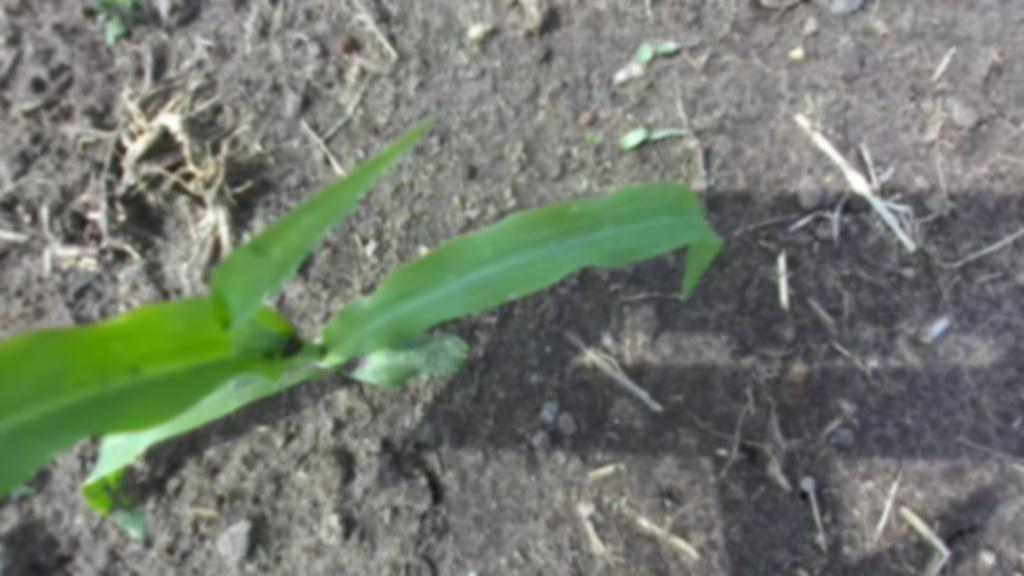BroWeed: (614, 116, 688, 152), (86, 0, 133, 32), (608, 56, 651, 87), (631, 39, 682, 65), (94, 12, 130, 48), (8, 480, 39, 502), (250, 207, 268, 239), (923, 550, 942, 576), (787, 45, 808, 65), (449, 192, 467, 213), (233, 226, 250, 247), (585, 131, 596, 141)
Maize: (0, 23, 739, 576)
